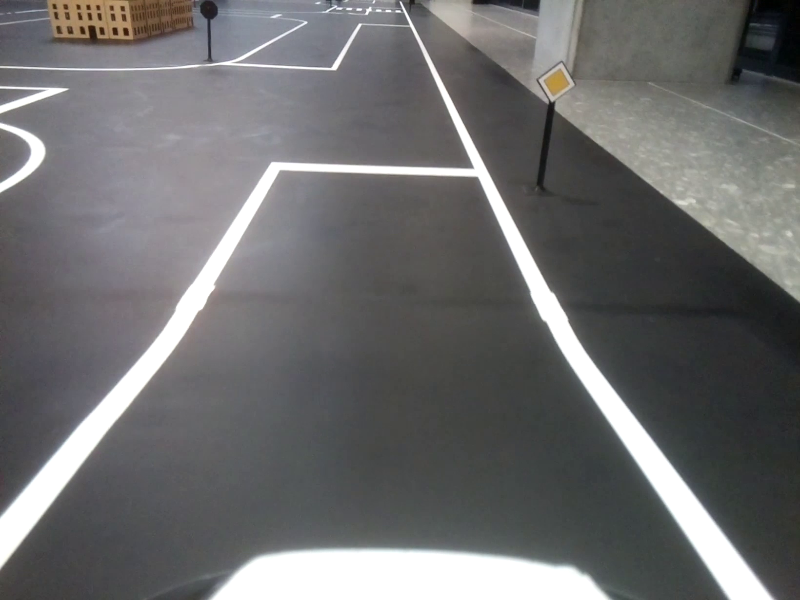priority: (538, 64, 576, 103)
